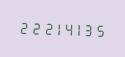five: (94, 21, 104, 38)
four: (61, 19, 71, 37)
one: (50, 19, 60, 36), (72, 20, 82, 37)
three: (83, 20, 93, 38)
two: (28, 18, 38, 36), (17, 18, 27, 35), (39, 19, 49, 36)
